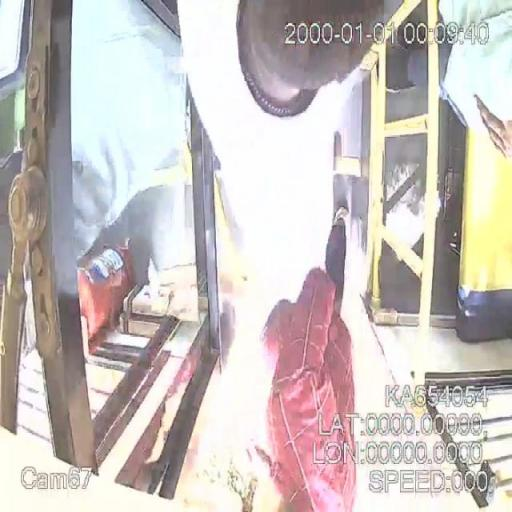persona: (173, 0, 371, 265), (256, 206, 358, 511)
